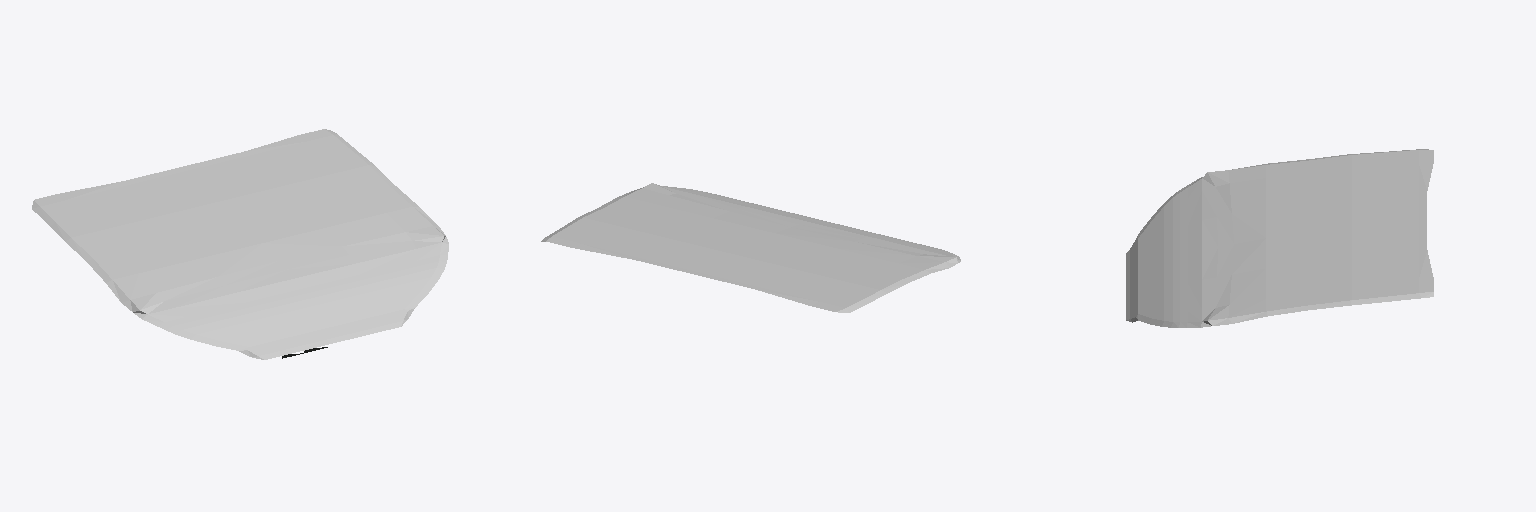
Rendered from cofre.obj.
3 renders of one model, left to right at view 1: azimuth 30°, elevation 25°; view 2: azimuth 150°, elevation 25°; view 3: azimuth 270°, elevation 25°, orthographic.
Parts seen in each view (by area): view 1: s15-body.001; view 2: s15-body.001; view 3: s15-body.001.
Boxes of the visible parts, x1=… form: s15-body.001: x1=32, y1=129, x2=448, y2=359; s15-body.001: x1=541, y1=183, x2=960, y2=312; s15-body.001: x1=1126, y1=149, x2=1433, y2=327.
Bounding box in the file's own units: 0.9884 × 0.2104 × 0.8308.